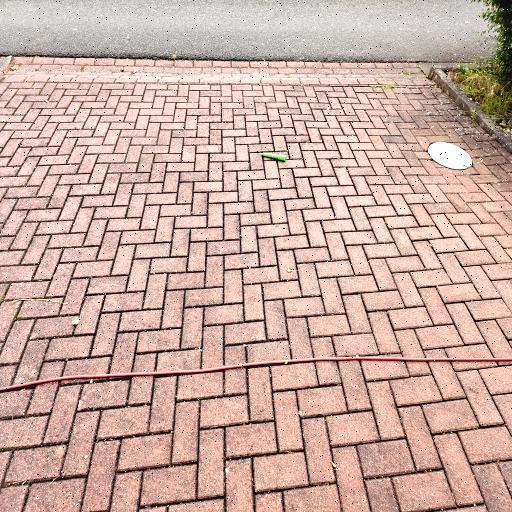Probe-Detection: (261, 152, 286, 161)
